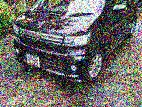car: (14, 1, 138, 83)
